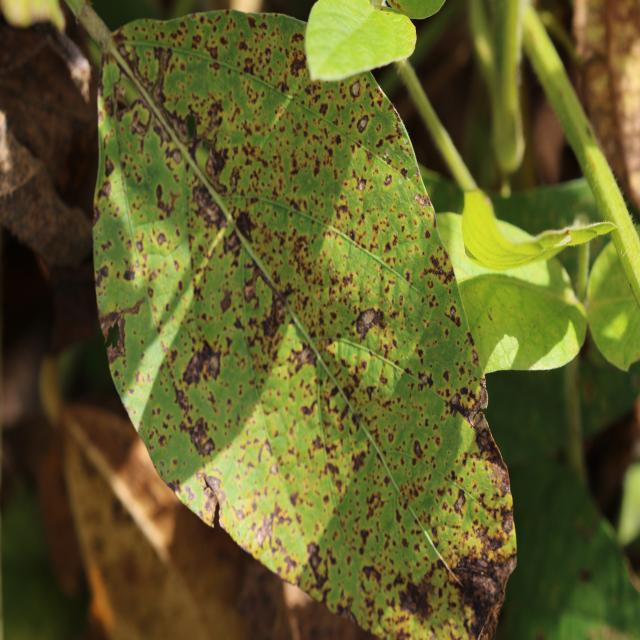Bacterial_Blight: (447, 534, 509, 637), (232, 112, 297, 193), (471, 429, 515, 503), (178, 335, 229, 391), (191, 182, 228, 234), (419, 247, 457, 294), (451, 380, 489, 427), (185, 417, 215, 459), (404, 583, 435, 623), (243, 270, 267, 319), (153, 180, 179, 221), (105, 325, 128, 369), (288, 341, 317, 374), (355, 308, 382, 339), (206, 143, 227, 180), (254, 515, 275, 548), (129, 111, 149, 137), (173, 383, 189, 415), (288, 51, 307, 77), (306, 542, 321, 573), (361, 564, 380, 585), (351, 449, 367, 472), (219, 289, 233, 314), (283, 552, 298, 574), (453, 490, 467, 513), (417, 372, 433, 389), (334, 204, 350, 221), (103, 155, 115, 177), (96, 264, 109, 284), (412, 439, 424, 459), (578, 567, 593, 583), (415, 193, 430, 207), (357, 116, 369, 132), (465, 331, 476, 348), (123, 269, 135, 282), (172, 149, 182, 164), (350, 82, 360, 97), (451, 394, 461, 409), (356, 179, 366, 191), (384, 240, 392, 254), (442, 369, 450, 382), (400, 167, 409, 178), (384, 174, 392, 186)
Soybean: (71, 1, 516, 638)
